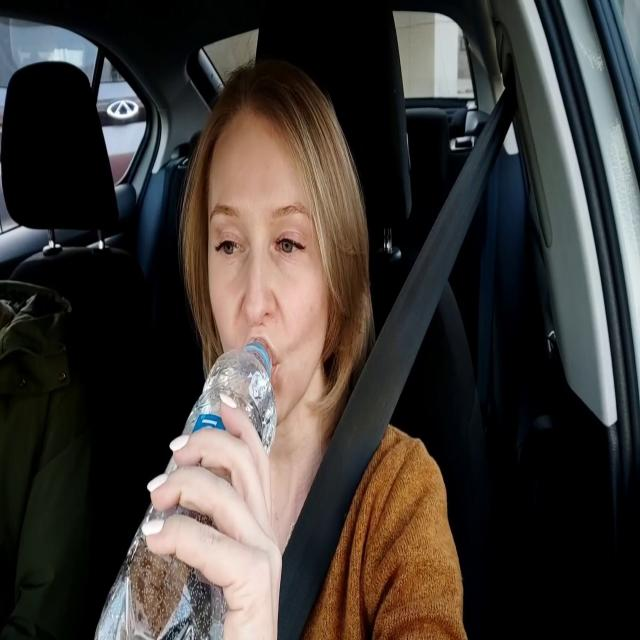3: (282, 78, 519, 640)
Seatbelt: (93, 336, 281, 640)
